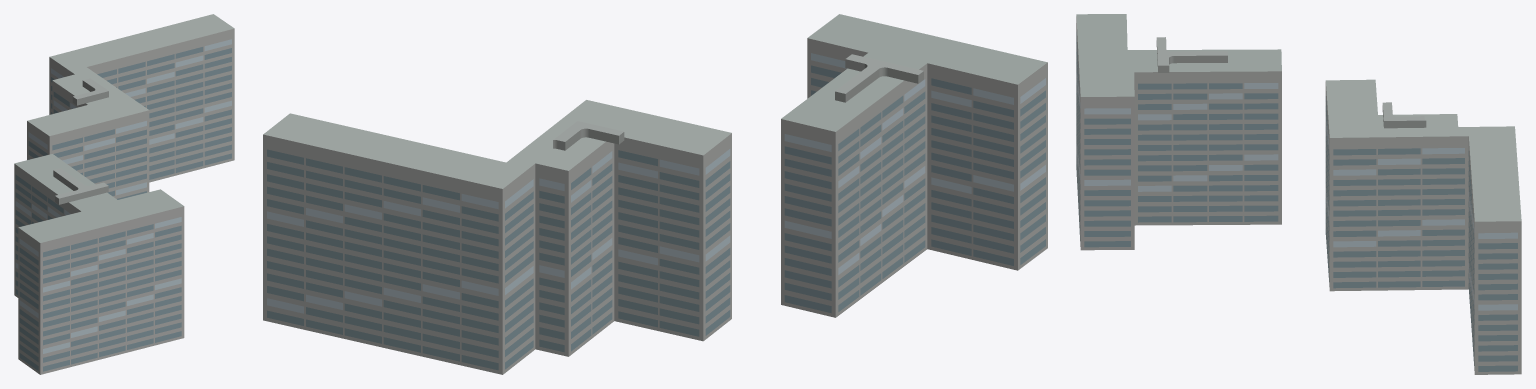
File: apt-a15722003.glb
The picture shows the model from 3 angles, left to right: view 1: azimuth 30°, elevation 25°; view 2: azimuth 150°, elevation 25°; view 3: azimuth 270°, elevation 25°; orthographic projection. The views are drawn at different scales.
Visible parts, largest first — view 1: apt-a15722003; view 2: apt-a15722003; view 3: apt-a15722003.
Part boxes in pixels (bbox=[...]): apt-a15722003: bbox=[14, 14, 234, 374]; apt-a15722003: bbox=[263, 14, 1047, 374]; apt-a15722003: bbox=[1076, 14, 1521, 374].
Bounding box in the file's own units: 111 × 40 × 101.
